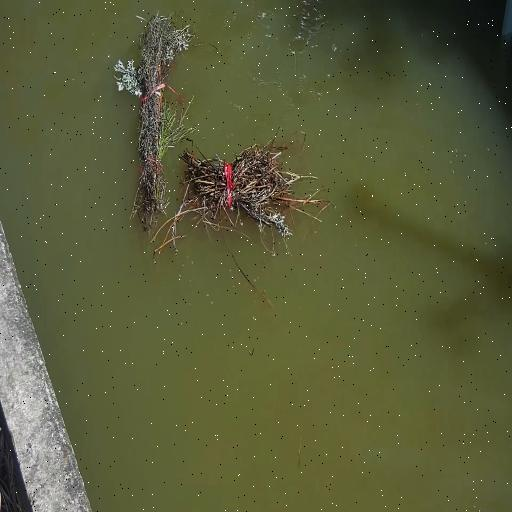twig: (114, 12, 188, 234), (176, 140, 290, 252)
